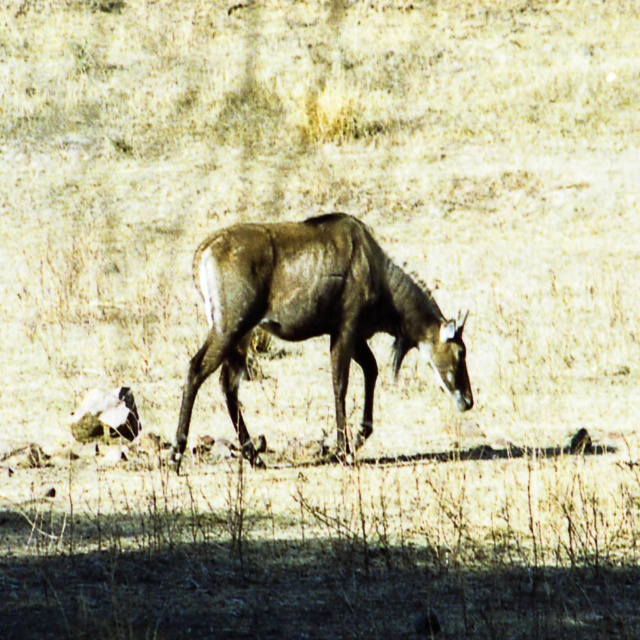Horse: (167, 212, 473, 475)
